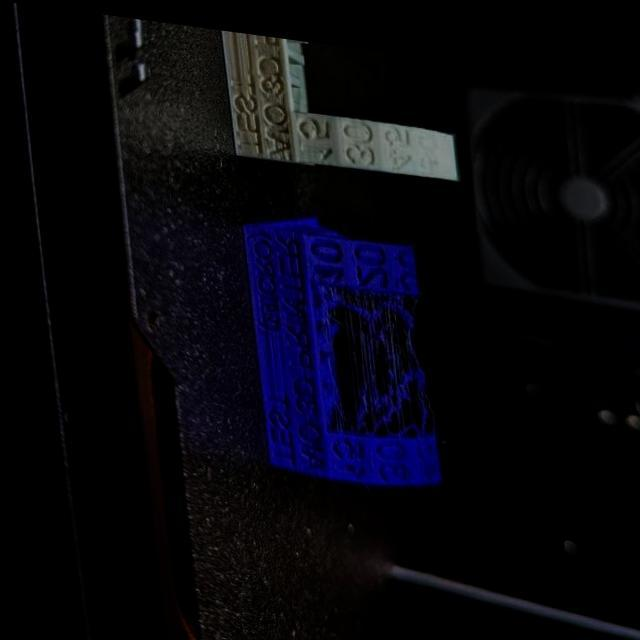stringing: (308, 272, 425, 438)
